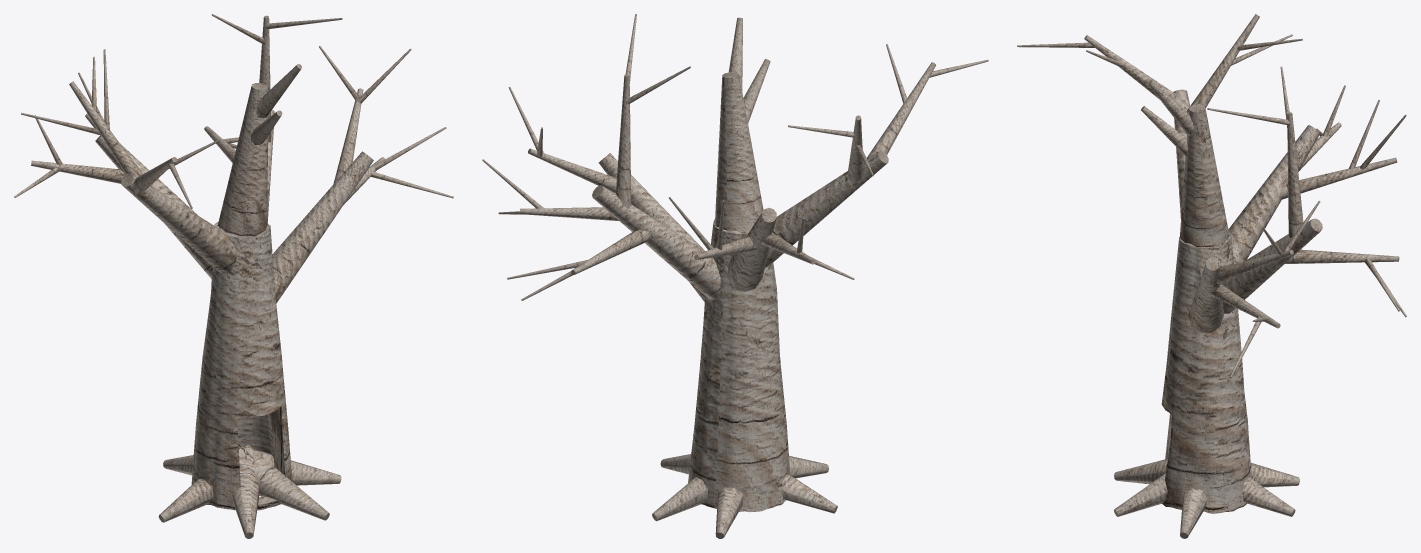
Rendered from hollow-standing-tree-v01.glb.
3 renders of one model, left to right at view 1: azimuth 30°, elevation 25°; view 2: azimuth 150°, elevation 25°; view 3: azimuth 270°, elevation 25°, orthographic. The views are drawn at different scales.
Parts seen in each view (by area): view 1: wood; view 2: wood; view 3: wood.
Boxes of the visible parts, x1,y1,x2,y2 form: wood: [14, 14, 453, 538]; wood: [482, 14, 988, 538]; wood: [1017, 14, 1406, 538].
Size of the model in its own units: 5.46 by 5.82 by 4.69.
Materials: 1 (1 with a texture image).
